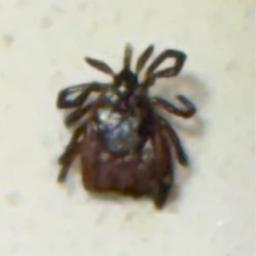Ixodes scapularis: (57, 41, 196, 211)
